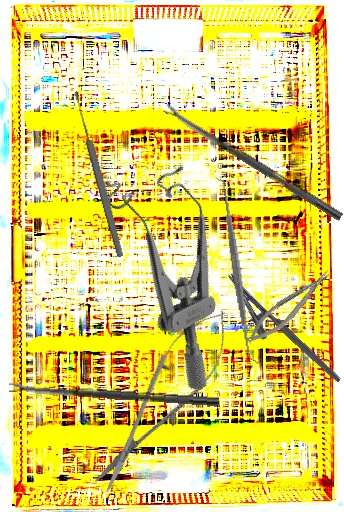Micro Scissor: (78, 296, 246, 505)
Needle Holder: (211, 271, 343, 399), (240, 265, 339, 350)
Spatula Surgical: (213, 174, 261, 368)
Speculum: (83, 143, 281, 396)
Surgical Spoon: (163, 102, 344, 222), (71, 90, 126, 258), (8, 381, 220, 407)
